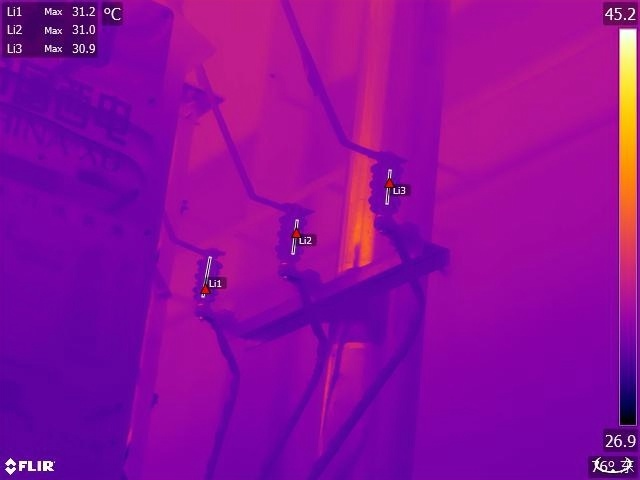tube: (270, 202, 316, 273), (183, 256, 233, 314), (361, 159, 405, 217)
